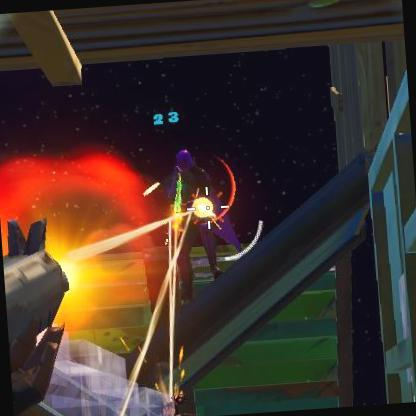person: (167, 146, 235, 286)
